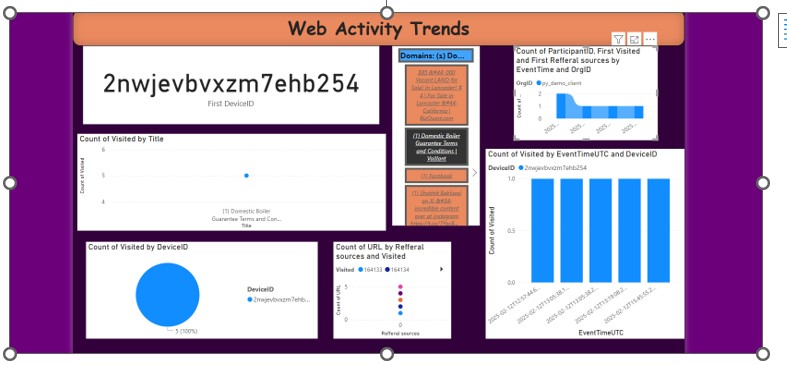

The page's visual inventory and layout, read from the dashboard file:
{"tool":"powerbi","page":{"name":"Page 1","canvas":[1280,720],"ordinal":0},"visuals":[{"type":"columnChart","fields":{"Category":["users.EventTimeUTC"],"Y":["CountNonNull(users.Visited)"],"Series":["users.DeviceID"]},"box":[863.8,289.5,416.2,396.9],"z":0},{"type":"pieChart","fields":{"Category":["users.DeviceID"],"Y":["CountNonNull(users.Visited)"]},"box":[27.7,483.8,485,202.7],"z":1000},{"type":"textbox","box":[0,0,1280,74.8],"z":2000},{"type":"stackedAreaChart","fields":{"Category":["users.RefferingVisited"],"Y":["CountNonNull(users.URL)"],"Series":["users.Visited"]},"box":[545.3,483.8,246.1,202.7],"z":3000},{"type":"ribbonChart","fields":{"Category":["users.EventTime"],"Y":["CountNonNull(users.ParticipantID)"],"Series":["users.OrgID"]},"box":[922.9,74.8,300.4,196.6],"z":4000},{"type":"slicer","fields":{"Values":["users.Title"]},"box":[668.4,74.8,183.4,375.2],"z":5000},{"type":"columnChart","fields":{"Category":["users.Visited"],"Y":["CountNonNull(users.Title)"]},"box":[21.7,246.1,618.9,203.9],"z":6000},{"type":"card","fields":{"Values":["Min(users.DeviceID)"]},"box":[13.3,74.8,627.3,154.4],"z":7000}]}

Visuals, with their boxes in screenshot pixels (x1, y1, x2, y2):
columnChart - users.EventTimeUTC x CountNonNull(users.Visited): {"x1": 484, "y1": 148, "x2": 685, "y2": 339}
pieChart - users.DeviceID x CountNonNull(users.Visited): {"x1": 81, "y1": 241, "x2": 315, "y2": 339}
textbox: {"x1": 68, "y1": 8, "x2": 685, "y2": 44}
stackedAreaChart - users.RefferingVisited x CountNonNull(users.URL): {"x1": 330, "y1": 241, "x2": 449, "y2": 339}
ribbonChart - users.EventTime x CountNonNull(users.ParticipantID): {"x1": 512, "y1": 44, "x2": 657, "y2": 139}
slicer - users.Title: {"x1": 390, "y1": 44, "x2": 478, "y2": 225}
columnChart - users.Visited x CountNonNull(users.Title): {"x1": 78, "y1": 127, "x2": 376, "y2": 225}
card - Min(users.DeviceID): {"x1": 74, "y1": 44, "x2": 376, "y2": 119}
